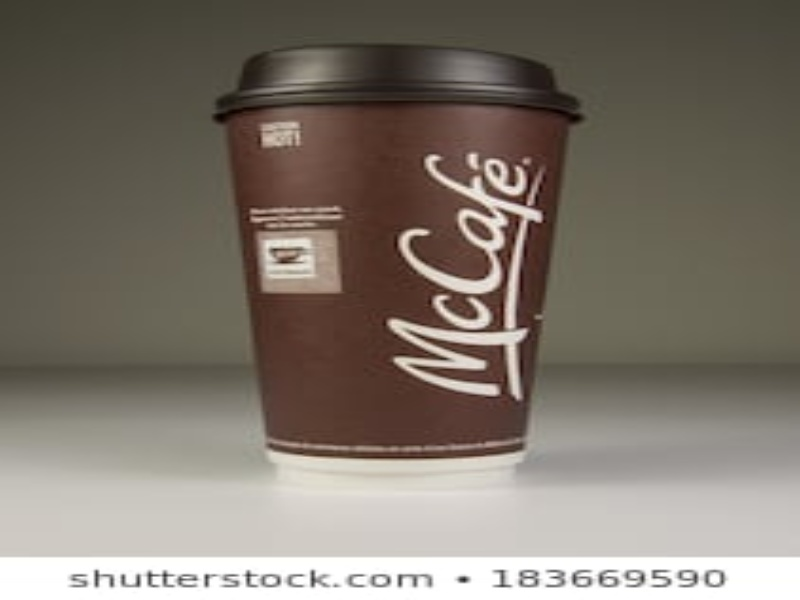coffee-lid: (210, 40, 586, 130)
